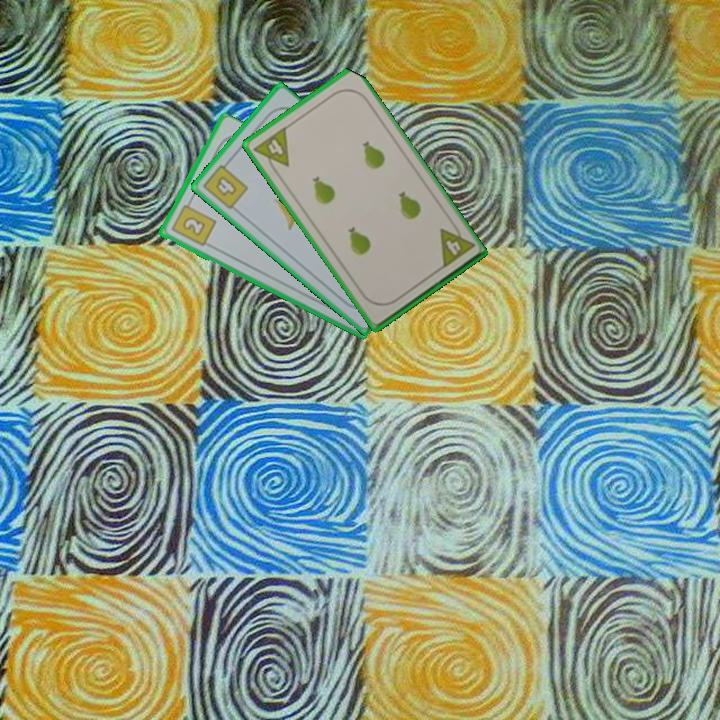2b: (167, 197, 218, 249)
4b: (199, 157, 251, 212)
4p: (250, 123, 292, 177), (436, 218, 477, 271)
